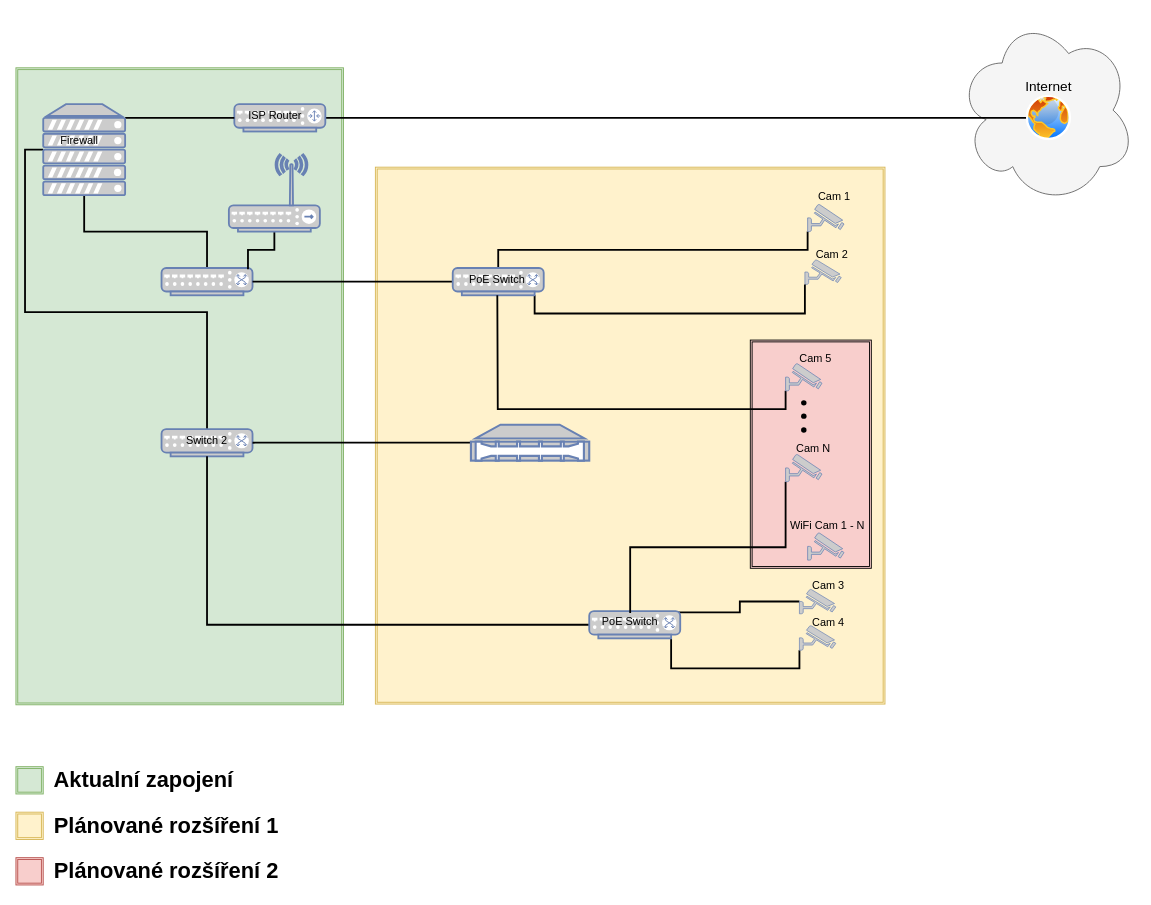
Image size: 1151x905. Some labels were removed from this diagram. The centre of each missing label's shape, as x and y in pixels:
NVR: the point at 530,442
Switch 1: the point at 206,281
